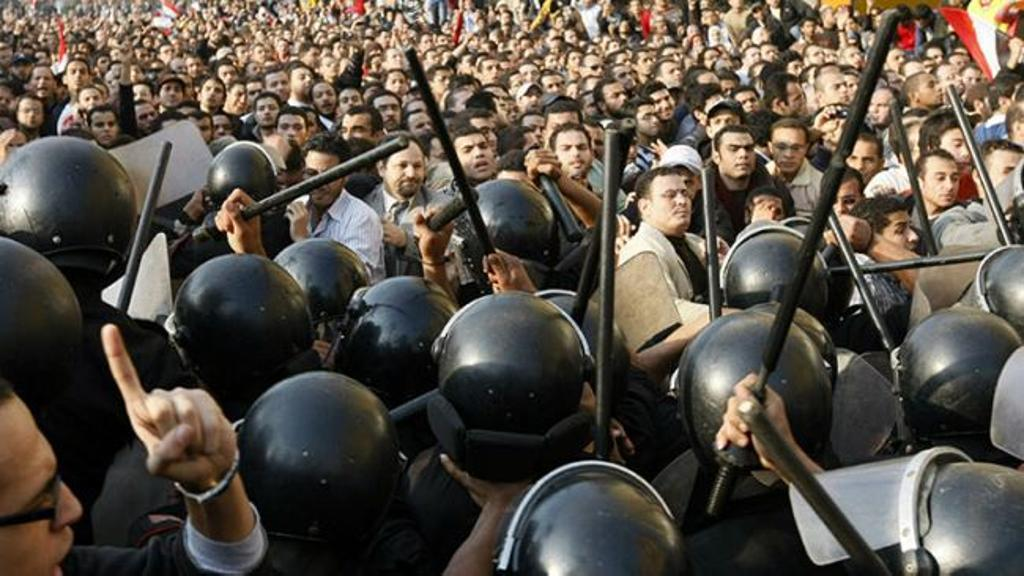face: (1, 414, 81, 576), (649, 182, 693, 230), (983, 161, 1024, 212), (879, 218, 918, 270), (303, 159, 342, 207), (385, 150, 425, 194), (454, 139, 493, 178), (555, 136, 592, 176), (826, 187, 862, 228), (938, 134, 972, 177), (925, 166, 960, 207), (846, 145, 879, 188), (342, 118, 374, 160), (772, 134, 806, 173), (721, 138, 755, 177), (548, 114, 581, 153), (667, 162, 698, 203), (752, 199, 784, 238), (471, 120, 498, 160), (710, 109, 740, 143), (93, 114, 120, 147), (822, 77, 850, 107), (278, 120, 305, 150), (523, 119, 546, 154), (581, 130, 603, 166), (603, 85, 629, 114), (375, 100, 401, 129), (410, 116, 434, 145), (870, 94, 893, 124), (918, 78, 943, 105), (265, 75, 290, 102), (18, 103, 44, 128), (487, 88, 508, 118), (652, 94, 676, 120), (340, 94, 363, 121), (135, 107, 157, 135), (292, 72, 315, 98), (314, 88, 336, 115), (31, 71, 53, 98), (636, 107, 657, 135), (189, 118, 210, 146), (781, 88, 804, 113), (737, 95, 760, 120), (5, 139, 28, 163), (202, 84, 224, 109), (82, 93, 103, 119), (259, 102, 281, 126), (67, 66, 89, 90), (211, 118, 230, 145), (131, 87, 150, 114), (941, 68, 962, 92), (162, 84, 183, 108), (660, 65, 682, 87), (434, 72, 454, 96), (230, 88, 248, 114), (522, 89, 542, 112), (220, 68, 240, 91), (502, 100, 519, 127), (586, 62, 606, 84), (13, 57, 32, 80), (519, 70, 539, 91), (664, 49, 683, 71), (387, 76, 405, 99), (615, 68, 633, 90), (509, 77, 527, 99), (483, 62, 500, 85), (890, 52, 908, 73), (177, 77, 192, 102), (842, 79, 859, 101), (964, 71, 981, 92), (705, 53, 722, 73), (1, 90, 15, 114), (788, 62, 803, 84), (387, 52, 404, 71), (543, 78, 559, 98), (248, 85, 263, 106), (809, 50, 826, 68), (846, 49, 862, 68), (721, 81, 736, 101), (638, 54, 653, 74), (929, 52, 945, 70), (747, 51, 763, 69), (187, 60, 203, 78), (715, 63, 730, 82), (616, 55, 631, 74), (323, 59, 339, 76), (439, 36, 454, 54), (824, 50, 838, 69), (762, 47, 777, 64), (367, 50, 382, 67), (372, 60, 386, 78), (554, 77, 567, 96), (306, 49, 319, 68), (568, 55, 583, 71), (249, 64, 262, 82), (150, 65, 164, 81), (129, 67, 142, 83), (160, 48, 176, 61), (953, 58, 965, 75), (546, 57, 558, 74), (509, 41, 521, 58), (97, 57, 110, 72), (79, 44, 92, 59), (427, 52, 439, 68), (1, 51, 13, 67), (688, 28, 700, 43), (610, 44, 622, 59), (335, 43, 347, 58), (238, 48, 250, 63), (35, 55, 47, 69), (422, 36, 433, 51), (382, 33, 393, 48), (620, 24, 631, 39), (256, 47, 266, 63), (805, 22, 816, 36), (846, 21, 857, 35), (566, 32, 577, 46), (174, 62, 185, 75), (551, 43, 560, 58), (211, 32, 222, 43), (655, 36, 665, 48), (140, 50, 150, 61), (279, 42, 288, 54), (284, 31, 293, 43), (712, 31, 721, 42), (657, 22, 666, 33), (356, 26, 365, 37), (502, 13, 510, 25), (694, 39, 703, 48), (555, 18, 563, 28), (144, 39, 152, 47)
